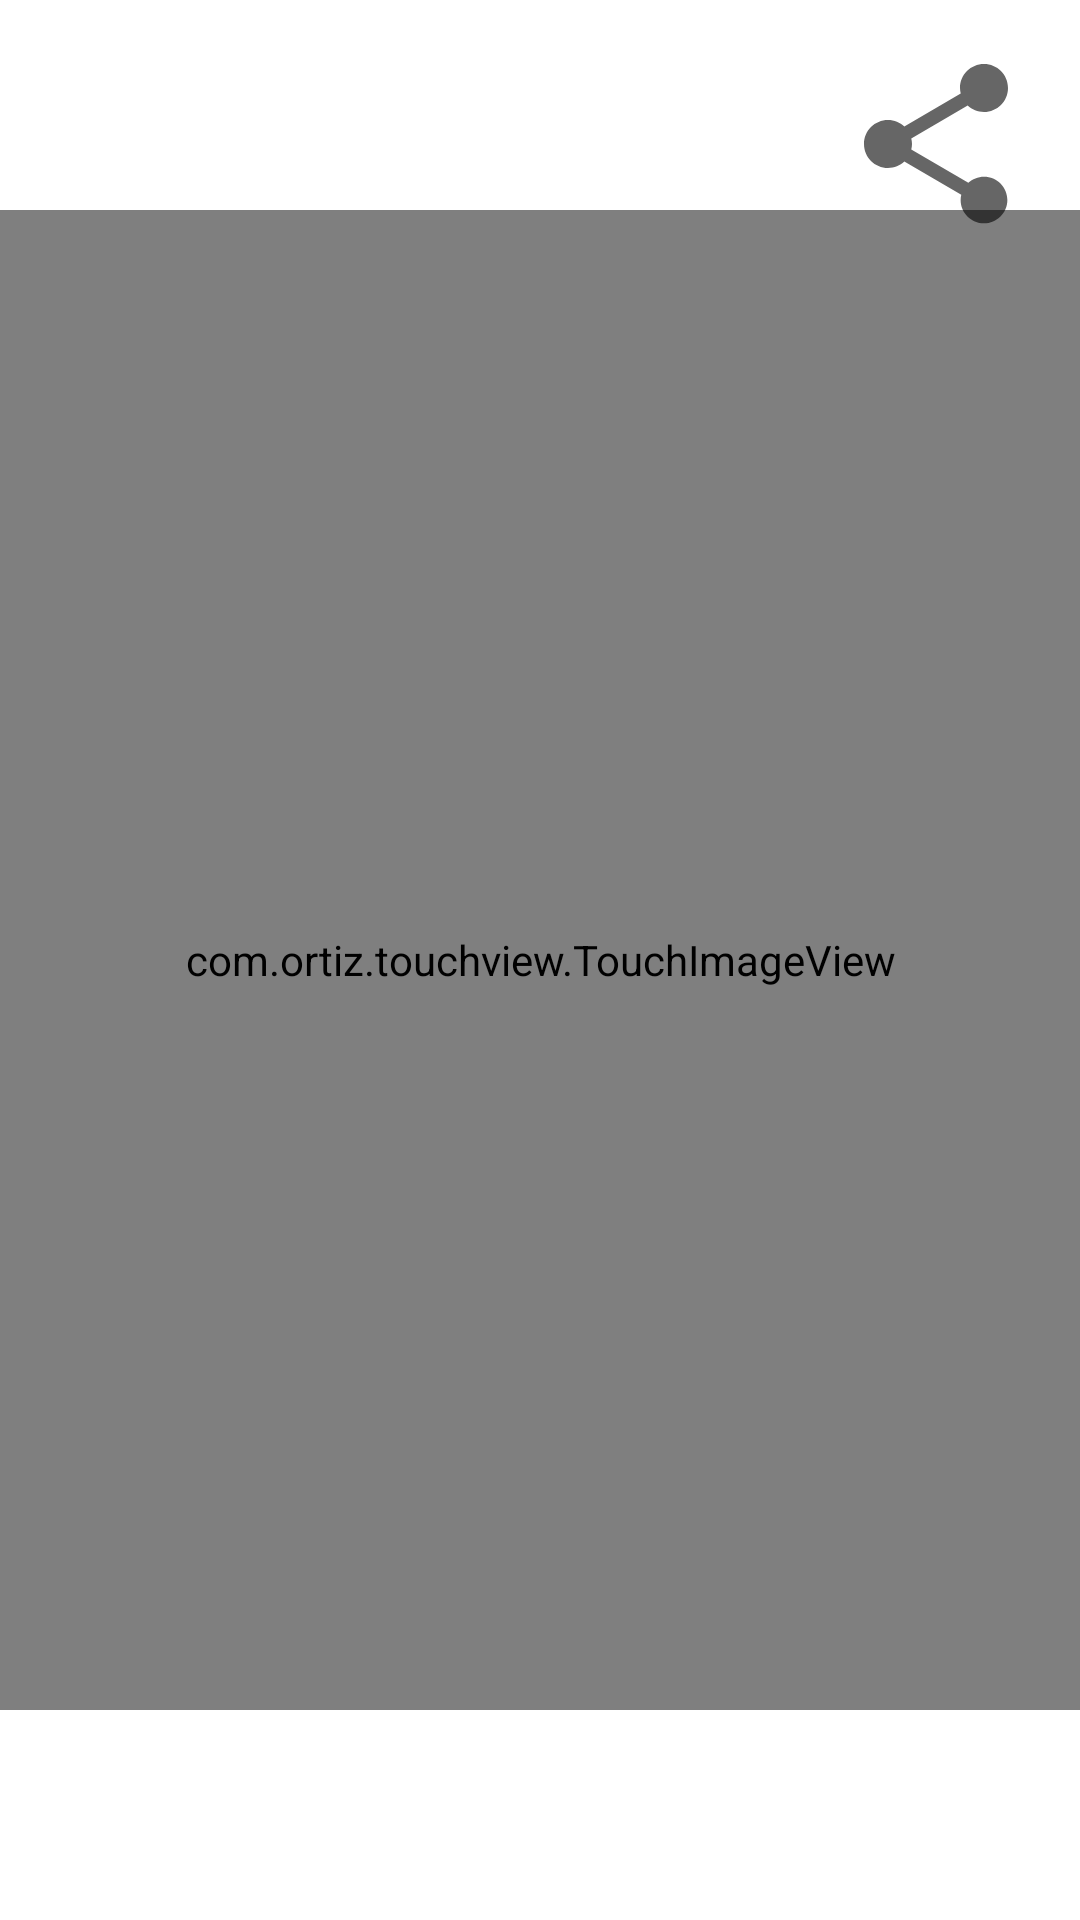

Named icons in this screenshot (1080px x 1920px) and their bounding boxes, bbox(x1, y1, x2, y2):
share: bbox(840, 64, 1032, 240)
